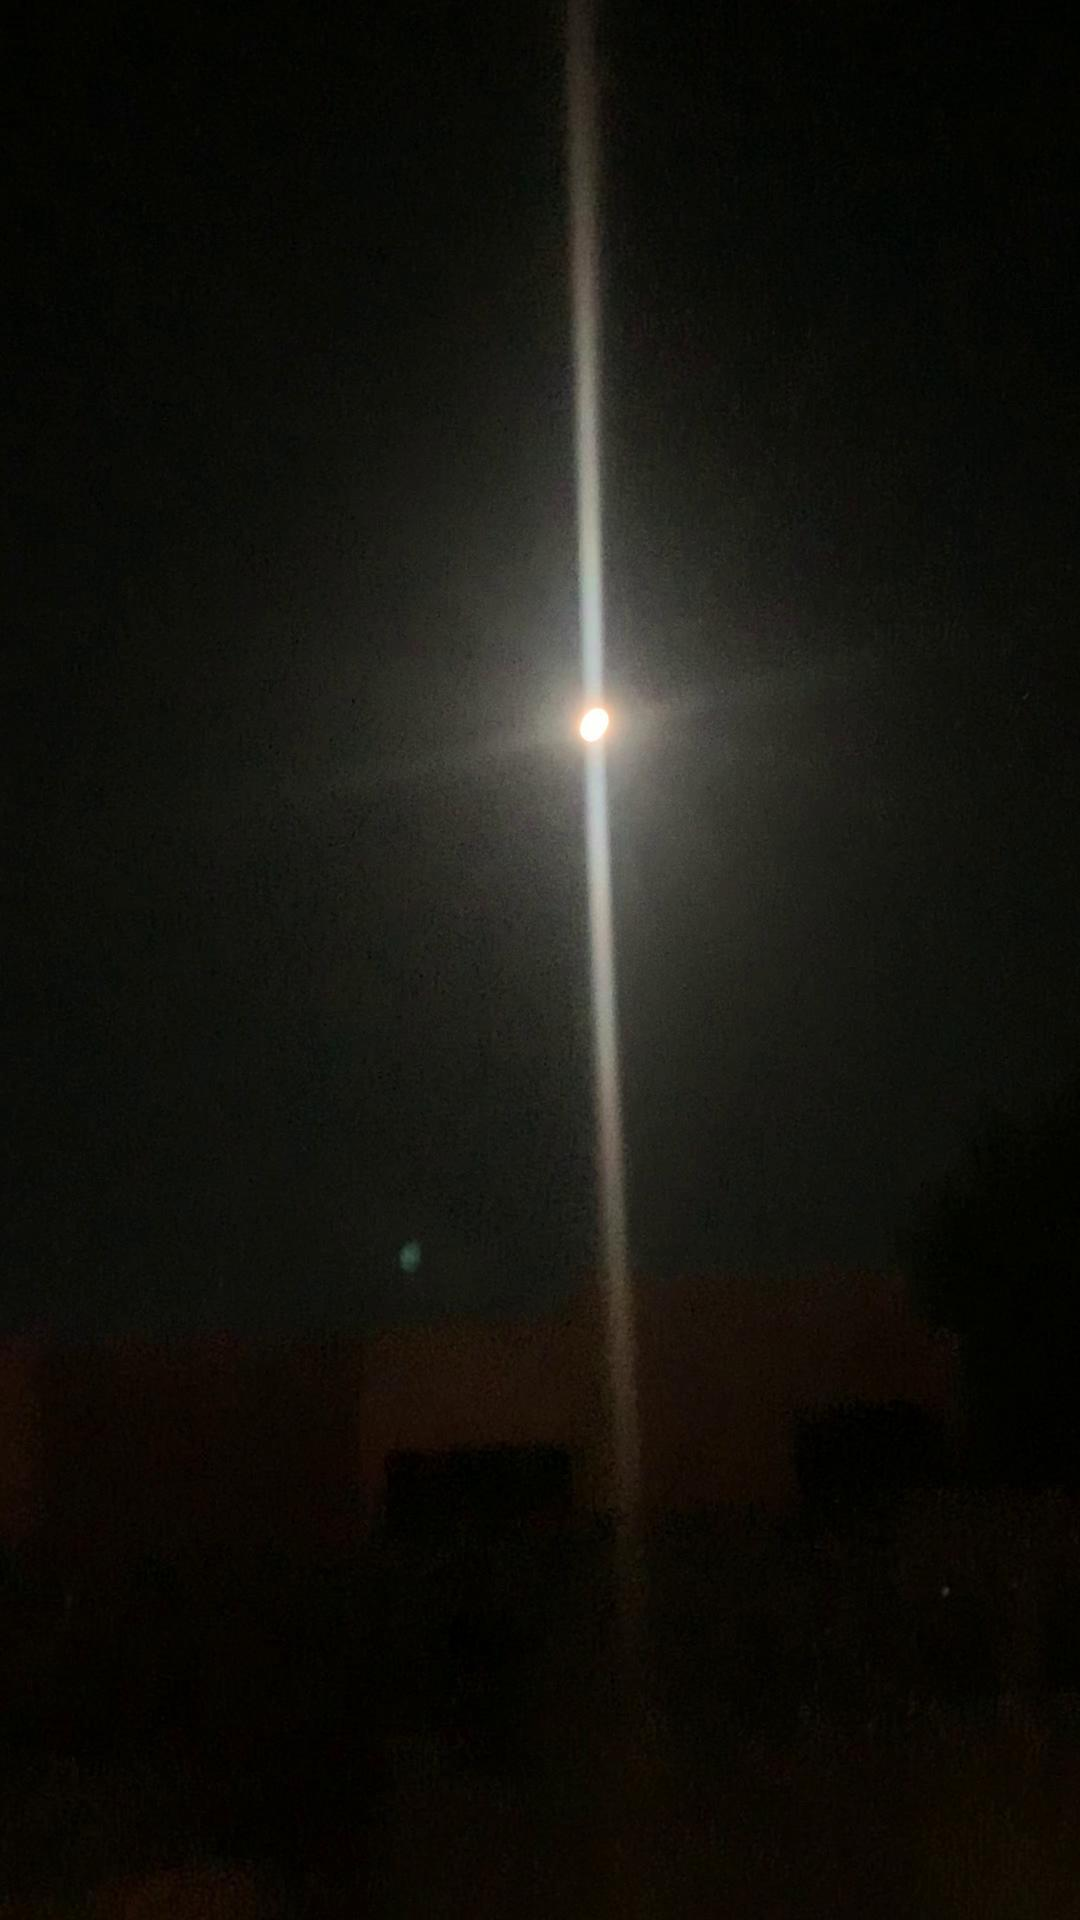moon: (546, 679, 651, 762)
